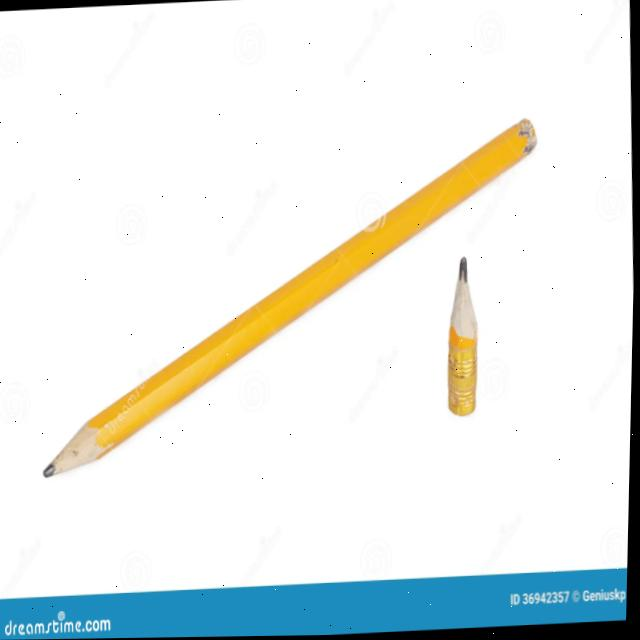pencil: (24, 105, 552, 486), (442, 253, 486, 427)
